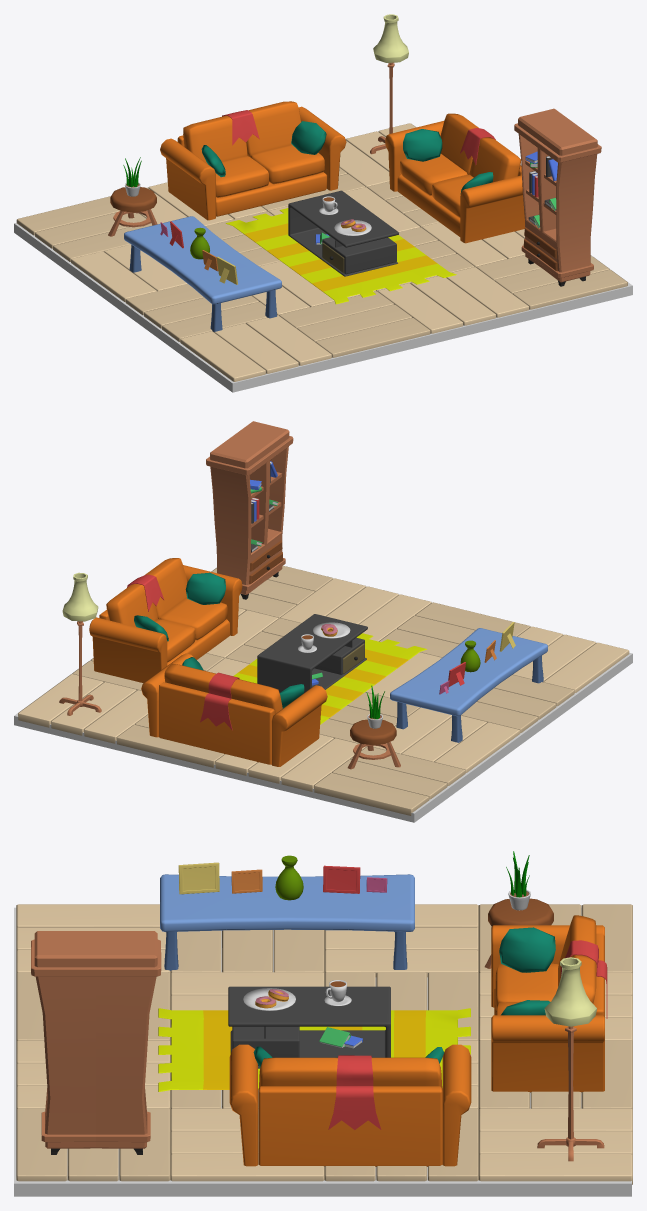
Rendered from living room.fbx.
3 views of the same model, one above another, from view 1: azimuth 30°, elevation 25°; view 2: azimuth 150°, elevation 25°; view 3: azimuth 270°, elevation 25° (orthographic). The views are drawn at different scales.
Visible parts, largest first — view 1: sofa (×2), polySurface67, polySurface64, polySurface30, base, mat, pCube1, polySurface39, stool, cloth (×2), polySurface37, cussion2 (+3 smaller); view 2: polySurface67, sofa (×2), polySurface64, polySurface30, pCube1, base, polySurface39, mat, cloth (×2), stool, polySurface37, cussion1 (+3 smaller); view 3: polySurface67, sofa (×2), polySurface64, polySurface30, pCube1, base, mat, polySurface39, cloth (×2), polySurface37, cussion2, stool (+9 smaller).
Part boxes in pixels (bbox=[...]): sofa (×2): bbox=[160, 101, 524, 243]; polySurface67: bbox=[71, 123, 529, 381]; polySurface64: bbox=[16, 167, 627, 357]; polySurface30: bbox=[514, 108, 601, 282]; base: bbox=[14, 223, 632, 392]; mat: bbox=[226, 208, 456, 304]; pCube1: bbox=[124, 216, 281, 304]; polySurface39: bbox=[288, 190, 398, 276]; stool: bbox=[108, 187, 157, 236]; cloth (×2): bbox=[222, 110, 495, 164]; polySurface37: bbox=[373, 14, 408, 62]; cussion2: bbox=[403, 129, 442, 161]; polySurface67: bbox=[18, 578, 629, 791]; sofa (×2): bbox=[89, 558, 327, 766]; polySurface64: bbox=[72, 565, 574, 815]; polySurface30: bbox=[206, 421, 293, 594]; pCube1: bbox=[390, 628, 547, 716]; base: bbox=[14, 567, 632, 822]; polySurface39: bbox=[257, 614, 367, 692]; mat: bbox=[233, 633, 426, 724]; cloth (×2): bbox=[127, 574, 239, 730]; stool: bbox=[347, 719, 400, 769]; polySurface37: bbox=[62, 572, 98, 621]; cussion1: bbox=[185, 572, 225, 604]; polySurface67: bbox=[16, 904, 632, 1184]; sofa (×2): bbox=[229, 915, 604, 1166]; polySurface64: bbox=[16, 904, 632, 1181]; polySurface30: bbox=[31, 931, 161, 1148]; pCube1: bbox=[160, 874, 414, 931]; base: bbox=[14, 907, 631, 1196]; mat: bbox=[158, 1008, 470, 1091]; polySurface39: bbox=[228, 986, 390, 1068]; cloth (×2): bbox=[328, 940, 607, 1129]; polySurface37: bbox=[544, 957, 596, 1026]; cussion2: bbox=[499, 927, 555, 972]; stool: bbox=[484, 898, 553, 968].
Bounding box in the file's own units: 460 × 173 × 436.
